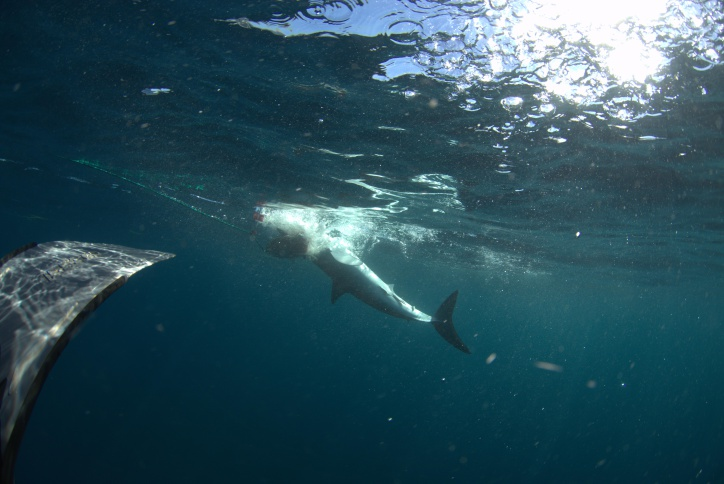Mako: (278, 229, 482, 366)
